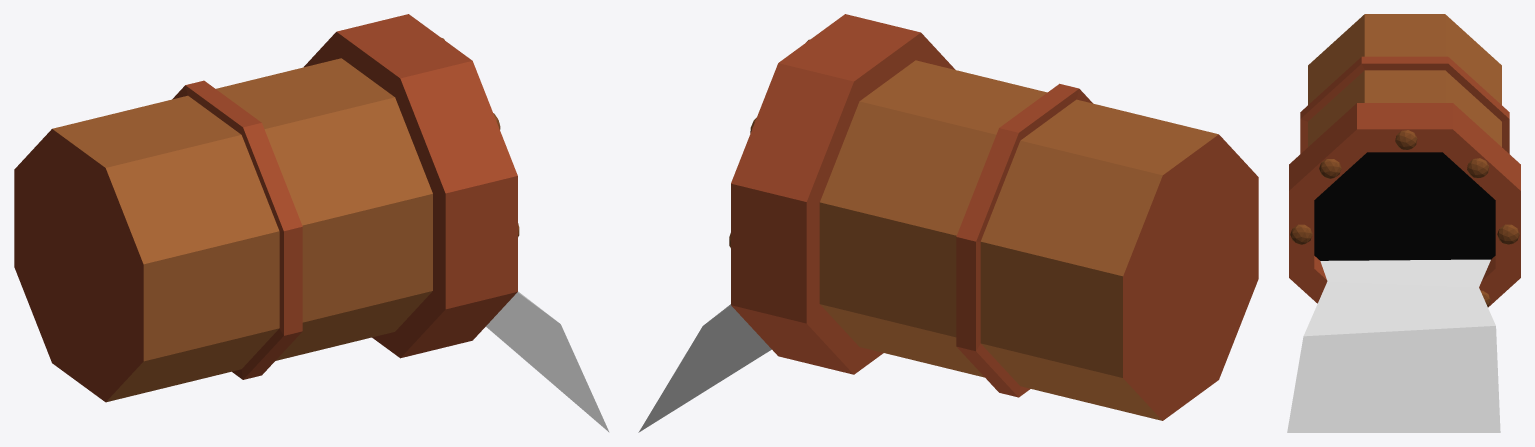
The model's file is Acid outlet pipe.fbx.
The picture shows the model from 3 angles, left to right: view 1: azimuth 30°, elevation 25°; view 2: azimuth 150°, elevation 25°; view 3: azimuth 270°, elevation 25°; orthographic projection. The views are drawn at different scales.
Parts seen in each view (by area): view 1: Icosphere.001; view 2: Icosphere.001; view 3: Icosphere.001.
Boxes of the visible parts, left/top/right/bottom form: Icosphere.001: left=14, top=14, right=609, bottom=432; Icosphere.001: left=638, top=14, right=1258, bottom=432; Icosphere.001: left=1287, top=14, right=1520, bottom=432.
Bounding box in the file's own units: 320 × 238 × 186.
